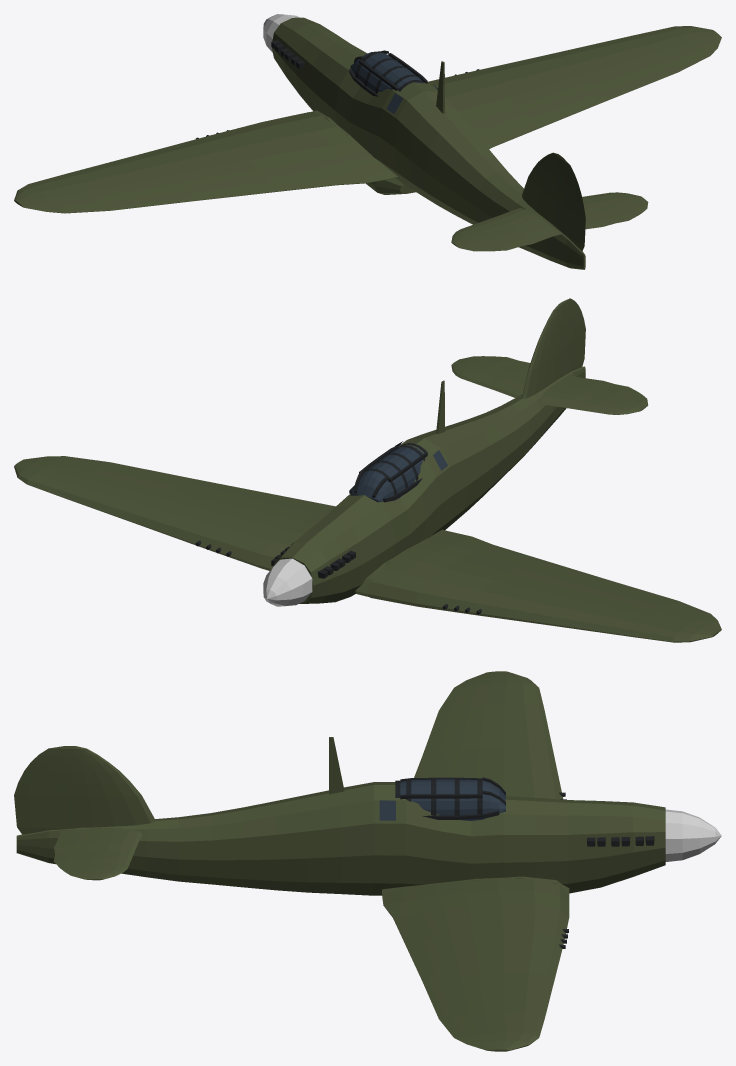
Rendered from hurricane.glb.
3 views of the same model, one above another, from view 1: azimuth 30°, elevation 25°; view 2: azimuth 150°, elevation 25°; view 3: azimuth 270°, elevation 25° (orthographic). The views are drawn at different scales.
Parts seen in each view (by area): view 1: Fuselage, Wing L, Wing R, Flap L, Flap R, Aileron L, Aileron R, Rudder, Stabilizer L, Vertical Fin, Cockpit Glass, Elevator L (+5 smaller); view 2: Fuselage, Wing L, Wing R, Vertical Fin, Stabilizer L, Cockpit Glass, Spinner, Flap L, Stabilizer R, Rudder, Flap R, Canopy Frame (+4 smaller); view 3: Fuselage, Wing R, Wing L, Vertical Fin, Rudder, Flap R, Stabilizer R, Cockpit Glass, Spinner, Canopy Frame, Aileron L, Aileron R (+1 smaller).
Part boxes in pixels (x1,y1,x2,y2): Fuselage: (272,17,585,269); Wing L: (14,110,397,212); Wing R: (427,26,721,127); Flap L: (193,159,379,199); Flap R: (471,89,598,148); Aileron L: (43,186,196,213); Aileron R: (594,42,716,100); Rudder: (557,155,585,250); Stabilizer L: (451,208,546,246); Vertical Fin: (522,152,559,227); Cockpit Glass: (350,51,423,91); Elevator L: (456,223,561,251); Fuselage: (273,366,585,603); Wing L: (355,529,721,642); Wing R: (14,456,325,570); Vertical Fin: (522,303,562,398); Stabilizer L: (539,382,645,414); Cockpit Glass: (350,446,423,502); Spinner: (263,558,312,606); Flap L: (440,534,598,583); Stabilizer R: (451,360,527,397); Rudder: (560,298,585,376); Flap R: (193,481,335,515); Canopy Frame: (349,443,427,502); Fuselage: (16,782,665,895); Wing R: (382,876,569,1051); Wing L: (420,671,566,799); Vertical Fin: (72,746,155,828); Rudder: (14,746,71,834); Flap R: (382,891,452,975); Stabilizer R: (80,827,142,880); Cockpit Glass: (400,779,505,820); Spinner: (665,809,721,861); Canopy Frame: (395,777,505,819); Aileron L: (422,680,479,756); Aileron R: (422,975,479,1042).
Size of the model in its own units: 12.19 by 2.73 by 9.64.
